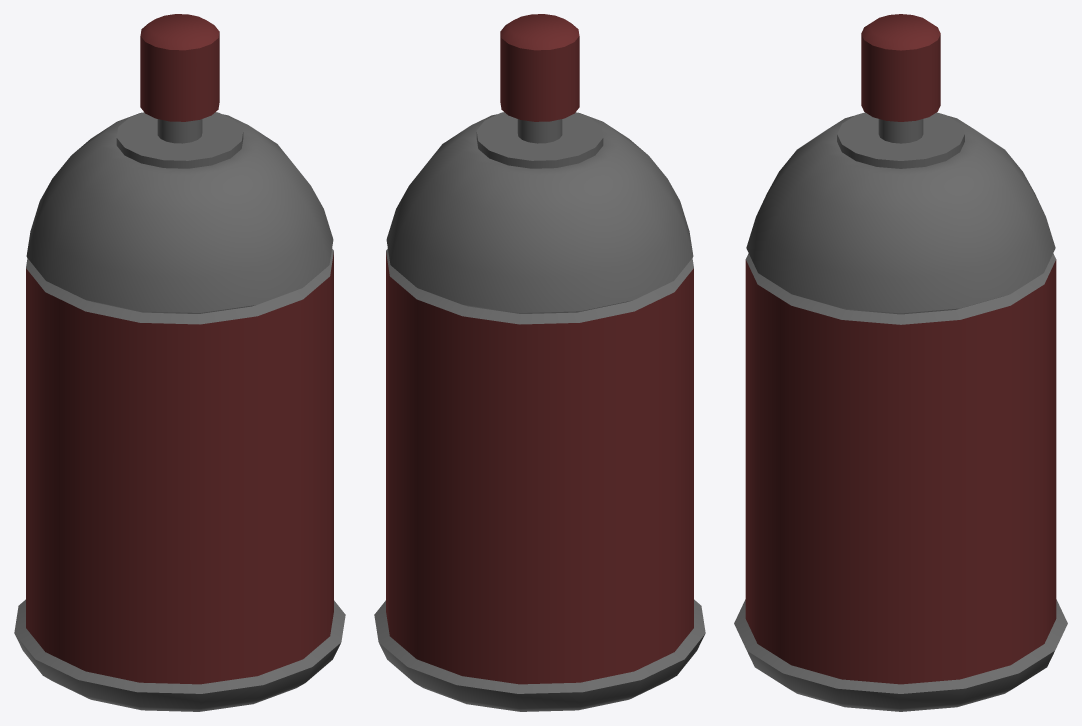
Rendered from Spray_01.fbx.
The picture shows the model from 3 angles, left to right: view 1: azimuth 30°, elevation 25°; view 2: azimuth 150°, elevation 25°; view 3: azimuth 270°, elevation 25°; orthographic projection.
Visible parts, largest first — view 1: Spray_01; view 2: Spray_01; view 3: Spray_01.
Boxes of the visible parts, x1=… form: Spray_01: x1=14, y1=14, x2=345, y2=711; Spray_01: x1=374, y1=14, x2=705, y2=711; Spray_01: x1=734, y1=14, x2=1067, y2=711.
Bounding box in the file's own units: 29.06 × 59.81 × 29.06.
